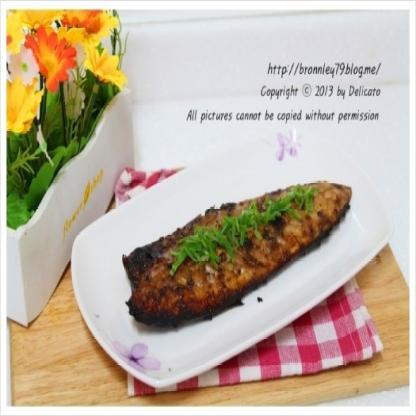Peixe: (109, 153, 365, 343)
